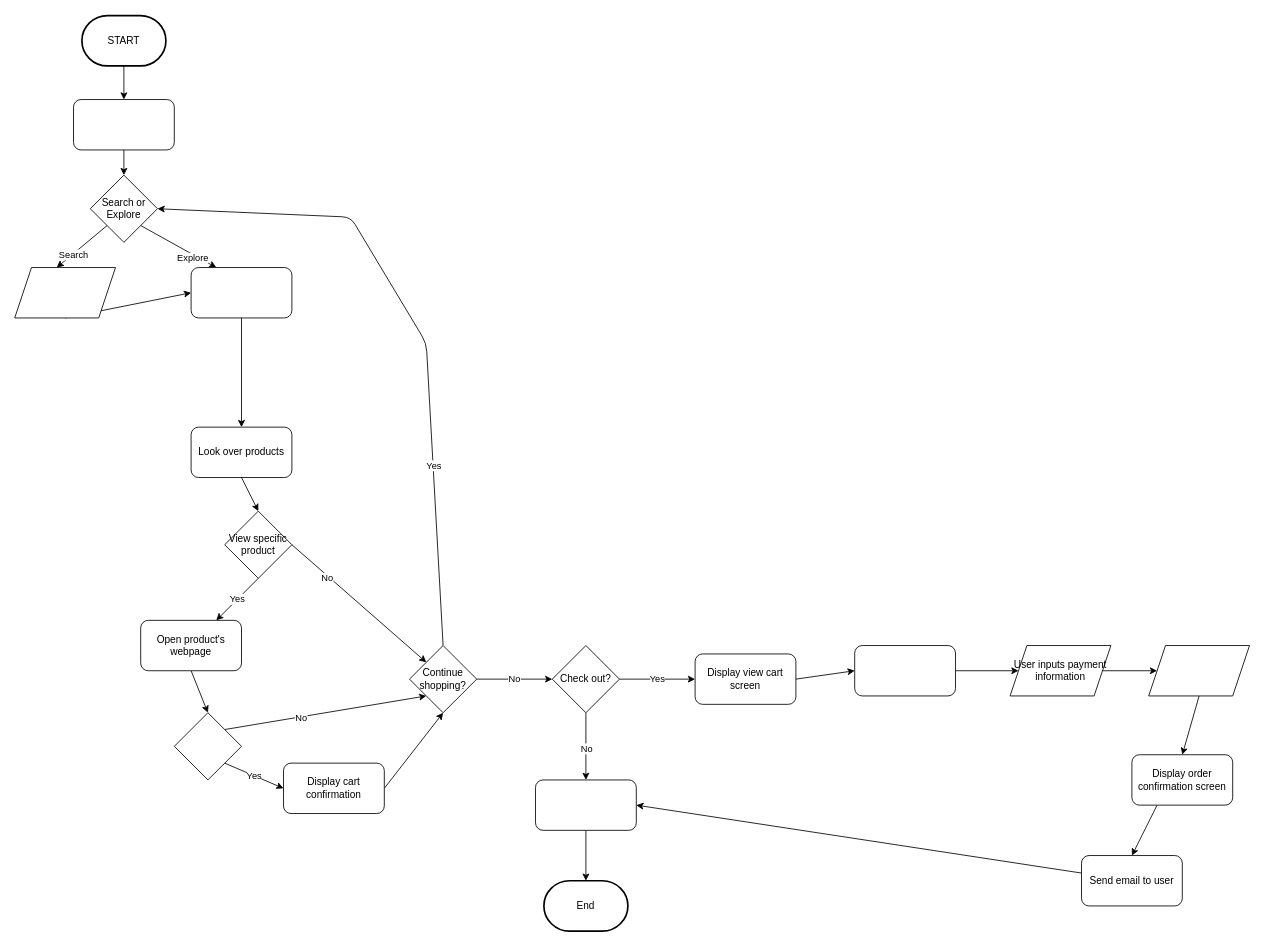
The diagram is 1264 pixels wide and 946 high, and some of its shapes have lost their labels. Here are the shapes that lost their labels. From the top down, the centre of each, then its label:
At (x=123, y=124): "Enter Website".
At (x=65, y=292): "Provide Input to Website".
At (x=241, y=292): "Show Products".
At (x=905, y=670): "Display view payment screen".
At (x=1199, y=670): "User pays".
At (x=207, y=746): "Add to cart?".
At (x=585, y=804): "Exit website".
